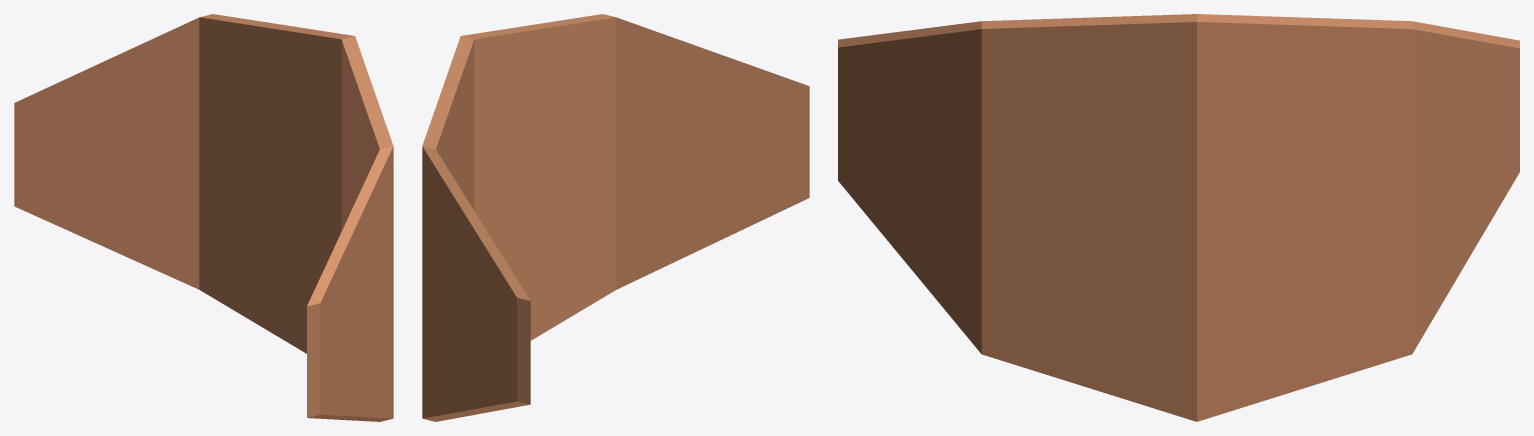
File: onionPeel.obj
The picture shows the model from 3 angles, left to right: view 1: azimuth 30°, elevation 25°; view 2: azimuth 150°, elevation 25°; view 3: azimuth 270°, elevation 25°; orthographic projection. The views are drawn at different scales.
Parts seen in each view (by area): view 1: onion.004; view 2: onion.004; view 3: onion.004.
Boxes of the visible parts, x1,y1,x2,y2 form: onion.004: [14, 14, 393, 421]; onion.004: [422, 14, 809, 421]; onion.004: [838, 14, 1519, 421].
Bounding box in the file's own units: 0.0394 × 0.0615 × 0.095.
